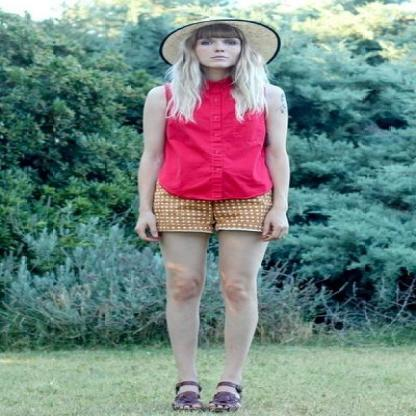hat: (159, 21, 277, 67)
shirt: (157, 77, 274, 203)
shoe: (173, 382, 241, 413)
shorts: (150, 194, 274, 240)
